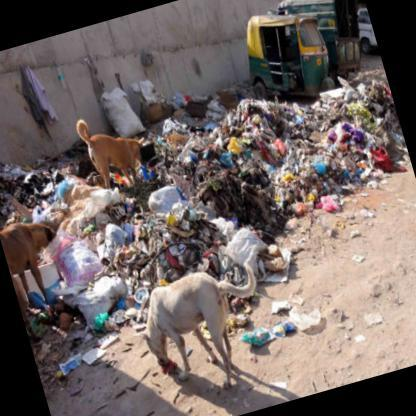Garbage: (213, 88, 375, 266), (258, 113, 368, 251), (242, 299, 340, 367), (334, 108, 403, 198), (286, 178, 348, 237), (138, 178, 200, 236), (228, 230, 285, 268), (0, 145, 45, 193), (96, 214, 138, 259), (135, 230, 169, 268), (162, 230, 202, 262)
